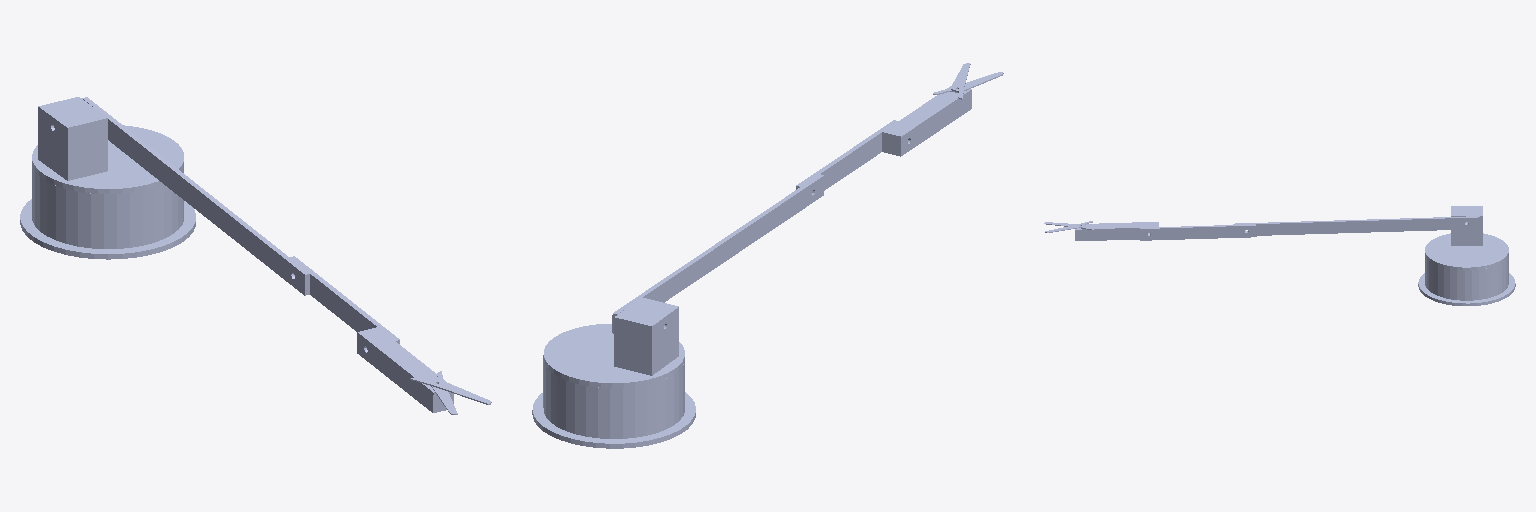
The robot description file, URDF, robot "urdf_arm_v2_9":
<?xml version="1.0" encoding="utf-8" ?>
<!-- This URDF was automatically created by SolidWorks to URDF Exporter! Originally created by [author] ([email redacted]) 
     Commit Version: 1.6.0-4-g7f85cfe  Build Version: 1.6.7995.38578
     For more information, please see http://wiki.ros.org/sw_urdf_exporter -->
<robot name="urdf_arm_v2_9">
    <link name="dummy_link"/>
        <joint name="dummy_joint" type="fixed">
		<parent link="dummy_link"/>
		<child link="base_link"/>
	</joint>
    <link name="base_link">
        <inertial>
            <origin xyz="0 0 0.0129116501789097" rpy="0 0 0" />
            <mass value="0.139928500286298" />
            <inertia ixx="0.000266657879405928" ixy="2.71050543121376E-20" ixz="-1.70979271109232E-20" iyy="0.000266657879405928" iyz="1.77265594518813E-20" izz="0.000458174075706895" />
        </inertial>
        <visual>
            <origin xyz="0 0 0" rpy="0 0 0" />
            <geometry>
                <mesh filename="package://urdf_arm_v2_9/meshes/base_link.STL" />
            </geometry>
            <material name="">
                <color rgba="0.792156862745098 0.819607843137255 0.933333333333333 1" />
            </material>
        </visual>
        <collision>
            <origin xyz="0 0 0" rpy="0 0 0" />
            <geometry>
                <mesh filename="package://urdf_arm_v2_9/meshes/base_link.STL" />
            </geometry>
        </collision>
    </link>
    <link name="first_Link">
        <inertial>
            <origin xyz="-0.0206431923014501 0 0.018852049074421" rpy="0 0 0" />
            <mass value="0.165235171451792" />
            <inertia ixx="0.000141299108564901" ixy="-2.71050543121376E-20" ixz="3.74401747584124E-05" iyy="0.000180916170397347" iyz="6.77727821771451E-21" izz="0.00022147712002398" />
        </inertial>
        <visual>
            <origin xyz="0 0 0" rpy="0 0 0" />
            <geometry>
                <mesh filename="package://urdf_arm_v2_9/meshes/first_Link.STL" />
            </geometry>
            <material name="">
                <color rgba="0.792156862745098 0.819607843137255 0.933333333333333 1" />
            </material>
        </visual>
        <collision>
            <origin xyz="0 0 0" rpy="0 0 0" />
            <geometry>
                <mesh filename="package://urdf_arm_v2_9/meshes/first_Link.STL" />
            </geometry>
        </collision>
    </link>
    <joint name="joint_01" type="continuous">
        <origin xyz="0 0 0.0565" rpy="0 0 0" />
        <parent link="base_link" />
        <child link="first_Link" />
        <axis xyz="0 0 1" />
    </joint>
    <link name="second_Link">
        <inertial>
            <origin xyz="-0.012 -0.169905441188023 -0.010669308132698" rpy="0 0 0" />
            <mass value="0.037717256661177" />
            <inertia ixx="0.000450360778496322" ixy="-5.58988805628635E-19" ixz="-1.92122932467951E-20" iyy="1.84265957611575E-06" iyz="-1.4926275258027E-05" izz="0.000448675274156295" />
        </inertial>
        <visual>
            <origin xyz="0 0 0" rpy="0 0 0" />
            <geometry>
                <mesh filename="package://urdf_arm_v2_9/meshes/second_Link.STL" />
            </geometry>
            <material name="">
                <color rgba="0.792156862745098 0.819607843137255 0.933333333333333 1" />
            </material>
        </visual>
        <collision>
            <origin xyz="0 0 0" rpy="0 0 0" />
            <geometry>
                <mesh filename="package://urdf_arm_v2_9/meshes/second_Link.STL" />
            </geometry>
        </collision>
    </link>
    <joint name="joint_02" type="continuous">
        <origin xyz="0 0 0.05" rpy="0 0 0" />
        <parent link="first_Link" />
        <child link="second_Link" />
        <axis xyz="1 0 0" />
    </joint>
    <link name="third_Link">
        <inertial>
            <origin xyz="-0.00700000000000026 -0.0749582828770686 -0.00250116535266083" rpy="0 0 0" />
            <mass value="0.0177172566611769" />
            <inertia ixx="4.76082963740953E-05" ixy="1.10378980939076E-20" ixz="-4.15930603522278E-22" iyy="6.87889051770495E-07" iyz="-1.54684585919953E-06" izz="4.69942292250797E-05" />
        </inertial>
        <visual>
            <origin xyz="0 0 0" rpy="0 0 0" />
            <geometry>
                <mesh filename="package://urdf_arm_v2_9/meshes/third_Link.STL" />
            </geometry>
            <material name="">
                <color rgba="0.792156862745098 0.819607843137255 0.933333333333333 1" />
            </material>
        </visual>
        <collision>
            <origin xyz="0 0 0" rpy="0 0 0" />
            <geometry>
                <mesh filename="package://urdf_arm_v2_9/meshes/third_Link.STL" />
            </geometry>
        </collision>
    </link>
    <joint name="joint_03" type="continuous">
        <origin xyz="0 -0.339810882376045 -0.0163386162653958" rpy="0 0 0" />
        <parent link="second_Link" />
        <child link="third_Link" />
        <axis xyz="1 0 0" />
    </joint>
    <link name="fourth_Link">
        <inertial>
            <origin xyz="-0.0149999999999999 -0.0503716082603349 -0.00168077117701819" rpy="0 0 0" />
            <mass value="0.0512931416529423" />
            <inertia ixx="7.31097718544253E-05" ixy="8.99972506457694E-20" ixz="1.76804547430953E-21" iyy="3.51921955292291E-06" iyz="-2.32162605206716E-06" izz="7.30193608131979E-05" />
        </inertial>
        <visual>
            <origin xyz="0 0 0" rpy="0 0 0" />
            <geometry>
                <mesh filename="package://urdf_arm_v2_9/meshes/fourth_Link.STL" />
            </geometry>
            <material name="">
                <color rgba="0.792156862745098 0.819607843137255 0.933333333333333 1" />
            </material>
        </visual>
        <collision>
            <origin xyz="0 0 0" rpy="0 0 0" />
            <geometry>
                <mesh filename="package://urdf_arm_v2_9/meshes/fourth_Link.STL" />
            </geometry>
        </collision>
    </link>
    <joint name="joint_04" type="continuous">
        <origin xyz="-0.00450000000000025 -0.149916565754137 -0.00500233070532168" rpy="0 0 0" />
        <parent link="third_Link" />
        <child link="fourth_Link" />
        <axis xyz="-1 0 0" />
    </joint>
    <link name="gripper_Link1">
        <inertial>
            <origin xyz="-0.00434958093438012 -0.0179590710669582 -0.00240024983781591" rpy="0 0 0" />
            <mass value="0.000791081448465945" />
            <inertia ixx="2.99047881508152E-07" ixy="-1.00985917233569E-07" ixz="-3.36964065339534E-09" iyy="4.28373677814795E-08" iyz="-9.96103403925274E-09" izz="3.41030641504463E-07" />
        </inertial>
        <visual>
            <origin xyz="0 0 0" rpy="0 0 0" />
            <geometry>
                <mesh filename="package://urdf_arm_v2_9/meshes/gripper_Link1.STL" />
            </geometry>
            <material name="">
                <color rgba="0.792156862745098 0.819607843137255 0.933333333333333 1" />
            </material>
        </visual>
        <collision>
            <origin xyz="0 0 0" rpy="0 0 0" />
            <geometry>
                <mesh filename="package://urdf_arm_v2_9/meshes/gripper_Link1.STL" />
            </geometry>
        </collision>
    </link>
    <joint name="joint_gripper1" type="continuous">
        <origin xyz="-0.0149999999999999 -0.105355122032869 0.00889147127528353" rpy="0 0 0" />
        <parent link="fourth_Link" />
        <child link="gripper_Link1" />
        <axis xyz="0 0.0333488713688118 -0.999443771694249" />
    </joint>
    <link name="gripper_Link2">
        <inertial>
            <origin xyz="0.000707524574196705 0.00381105410042001 -0.0185328814854469" rpy="0 0 0" />
            <mass value="0.000791081448465947" />
            <inertia ixx="3.3294011718469E-07" ixy="-7.67985499967202E-23" ixz="-1.91315002675563E-08" iyy="3.41363015623233E-07" iyz="-1.21732551834249E-21" izz="8.61275798617471E-09" />
        </inertial>
        <visual>
            <origin xyz="0 0 0" rpy="0 0 0" />
            <geometry>
                <mesh filename="package://urdf_arm_v2_9/meshes/gripper_Link2.STL" />
            </geometry>
            <material name="">
                <color rgba="0.792156862745098 0.819607843137255 0.933333333333333 1" />
            </material>
        </visual>
        <collision>
            <origin xyz="0 0 0" rpy="0 0 0" />
            <geometry>
                <mesh filename="package://urdf_arm_v2_9/meshes/gripper_Link2.STL" />
            </geometry>
        </collision>
    </link>
    <joint name="joint_gripper2" type="continuous">
        <origin xyz="-0.0149999999999999 -0.105208018357074 0.0044828707280123" rpy="1.53962066089369 0.0118609946243248 -2.7781620029307" />
        <parent link="fourth_Link" />
        <child link="gripper_Link2" />
        <axis xyz="0 1 0" />
    </joint>
    <transmission name="trans_joint_01">
        <type>transmission_interface/SimpleTransmission</type>
        <joint name="joint_01">
            <hardwareInterface>hardware_interface/PositionJointInterface</hardwareInterface>
        </joint>
        <actuator name="joint_01_motor">
            <hardwareInterface>hardware_interface/PositionJointInterface</hardwareInterface>
            <mechanicalReduction>1</mechanicalReduction>
        </actuator>
    </transmission>
    <transmission name="trans_joint_02">
        <type>transmission_interface/SimpleTransmission</type>
        <joint name="joint_02">
            <hardwareInterface>hardware_interface/PositionJointInterface</hardwareInterface>
        </joint>
        <actuator name="joint_02_motor">
            <hardwareInterface>hardware_interface/PositionJointInterface</hardwareInterface>
            <mechanicalReduction>1</mechanicalReduction>
        </actuator>
    </transmission>
    <transmission name="trans_joint_03">
        <type>transmission_interface/SimpleTransmission</type>
        <joint name="joint_03">
            <hardwareInterface>hardware_interface/PositionJointInterface</hardwareInterface>
        </joint>
        <actuator name="joint_03_motor">
            <hardwareInterface>hardware_interface/PositionJointInterface</hardwareInterface>
            <mechanicalReduction>1</mechanicalReduction>
        </actuator>
    </transmission>
    <transmission name="trans_joint_04">
        <type>transmission_interface/SimpleTransmission</type>
        <joint name="joint_04">
            <hardwareInterface>hardware_interface/PositionJointInterface</hardwareInterface>
        </joint>
        <actuator name="joint_04_motor">
            <hardwareInterface>hardware_interface/PositionJointInterface</hardwareInterface>
            <mechanicalReduction>1</mechanicalReduction>
        </actuator>
    </transmission>
    <transmission name="trans_joint_gripper1">
        <type>transmission_interface/SimpleTransmission</type>
        <joint name="joint_gripper1">
            <hardwareInterface>hardware_interface/PositionJointInterface</hardwareInterface>
        </joint>
        <actuator name="joint_gripper1_motor">
            <hardwareInterface>hardware_interface/PositionJointInterface</hardwareInterface>
            <mechanicalReduction>1</mechanicalReduction>
        </actuator>
    </transmission>
    <transmission name="trans_joint_gripper2">
        <type>transmission_interface/SimpleTransmission</type>
        <joint name="joint_gripper2">
            <hardwareInterface>hardware_interface/PositionJointInterface</hardwareInterface>
        </joint>
        <actuator name="joint_gripper2_motor">
            <hardwareInterface>hardware_interface/PositionJointInterface</hardwareInterface>
            <mechanicalReduction>1</mechanicalReduction>
        </actuator>
    </transmission>
    <gazebo>
        <plugin name="gazebo_ros_control">
            <robotNamespace>/</robotNamespace>
        </plugin>
    </gazebo>
</robot>

--- What the picture shows (computed from the rendered views, not written in the file) ---
3 views of the same robot in one strip: view 1: azimuth 30°, elevation 25°; view 2: azimuth 150°, elevation 25°; view 3: azimuth 270°, elevation 25° (orthographic).
Robot: urdf_arm_v2_9 — 8 links, 7 joints (6 continuous, 1 fixed); root link dummy_link; default pose: every joint at zero.
Visible links, largest first — view 1: base_link, first_Link, second_Link, fourth_Link, third_Link; view 2: base_link, first_Link, second_Link, fourth_Link, third_Link; view 3: base_link, first_Link, second_Link, third_Link, fourth_Link.
Boxes of the visible links, x1,y1,x2,y2 form: base_link: (20,166,195,259); first_Link: (32,97,183,193); second_Link: (82,97,309,295); fourth_Link: (357,327,453,412); third_Link: (290,256,399,343); base_link: (532,360,695,448); first_Link: (543,297,684,387); second_Link: (612,174,823,333); fourth_Link: (882,86,971,156); third_Link: (796,120,897,190); base_link: (1418,256,1515,305); first_Link: (1425,206,1508,270); second_Link: (1233,216,1479,235); third_Link: (1140,224,1256,240); fourth_Link: (1075,222,1158,240).
Bounding box of the posed robot: 0.1498 × 0.7266 × 0.1122 m (x, y, z).
Meshes: 7 distinct files referenced, 7 mesh visuals loaded (7 binary STL).